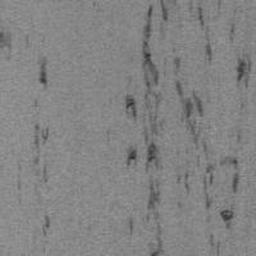Inclusion: (123, 0, 243, 256), (33, 124, 50, 184), (234, 51, 255, 88), (0, 31, 13, 61), (209, 234, 223, 256), (38, 58, 47, 87), (17, 163, 23, 206), (228, 20, 238, 45), (42, 215, 51, 237), (236, 131, 243, 143)
